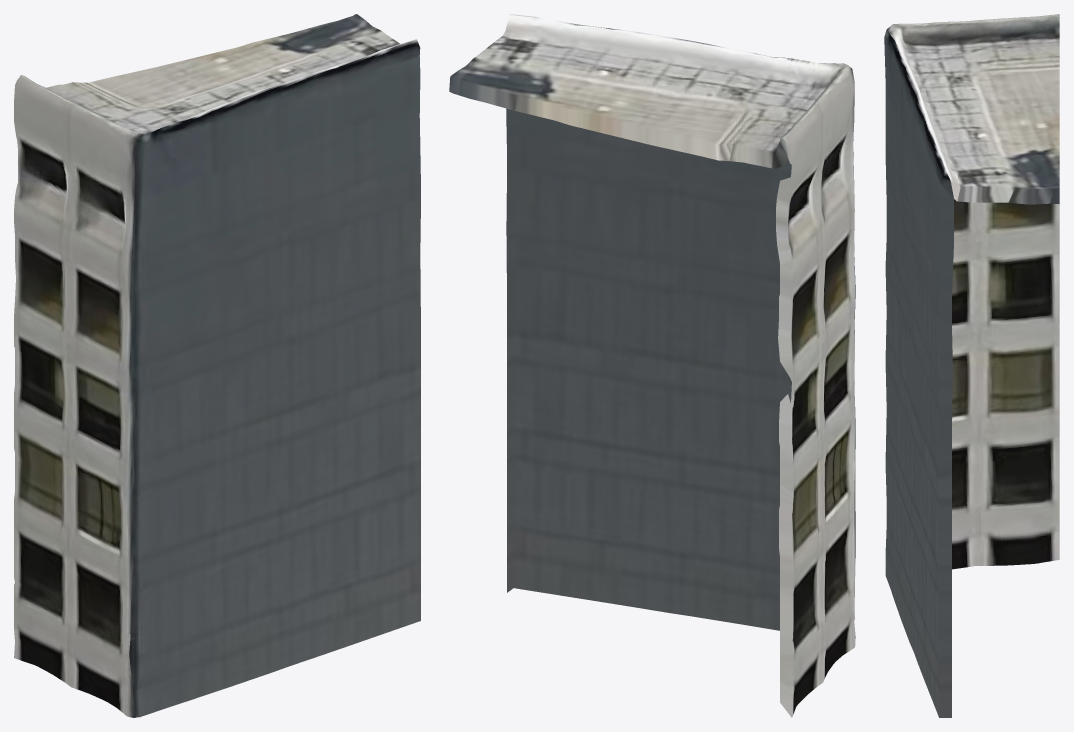
File: z20-167750-405246-h1-yup-uvflip-v3-world.glb
3 renders of one model, left to right at view 1: azimuth 30°, elevation 25°; view 2: azimuth 150°, elevation 25°; view 3: azimuth 270°, elevation 25°, orthographic. The views are drawn at different scales.
Size of the model in its own units: 13.8 by 22.36 by 6.44.
Materials: 1 (1 with a texture image).
